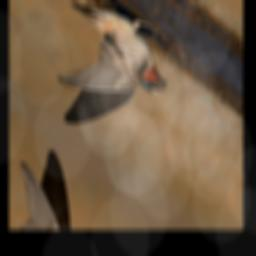Swallow: (29, 0, 183, 174)
